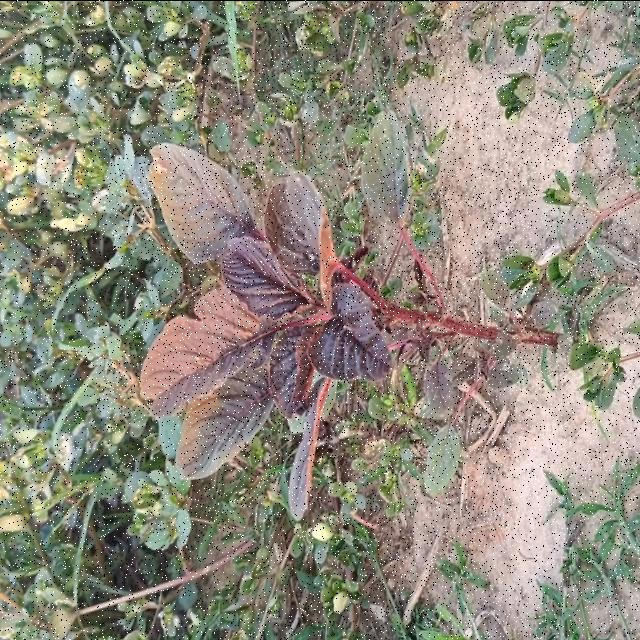plant: (140, 142, 559, 518)
